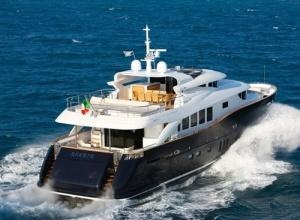yacht: (34, 33, 280, 200)
